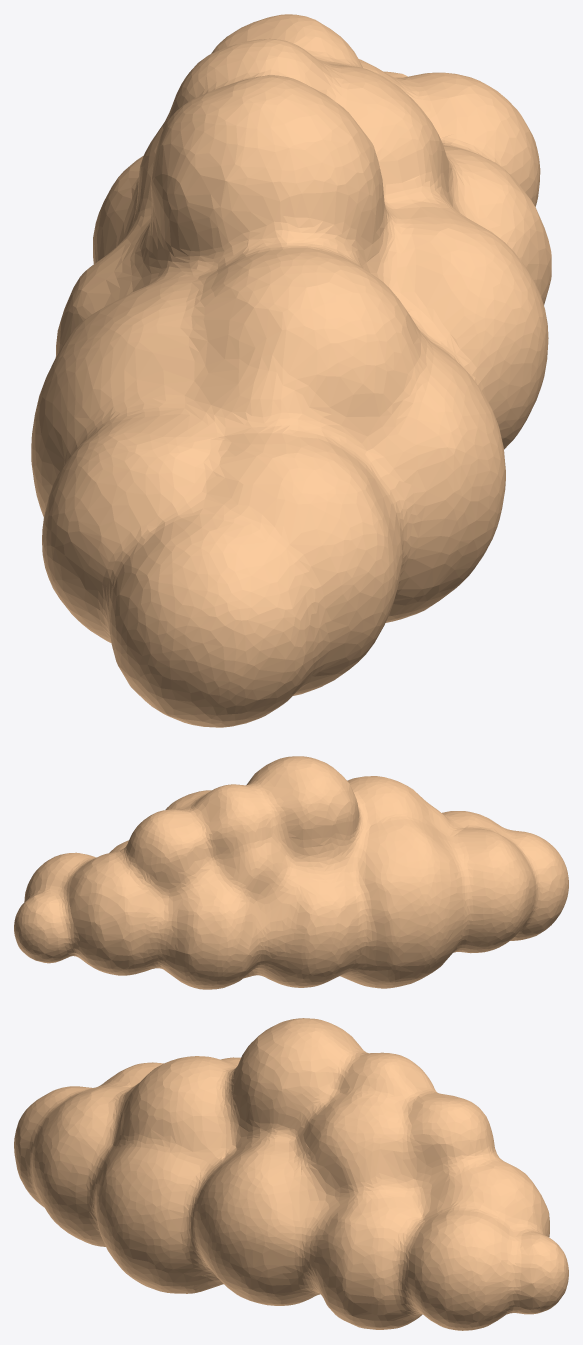
The model's file is clouds.gltf.
The picture shows the model from 3 angles, top to bottom: view 1: azimuth 30°, elevation 25°; view 2: azimuth 150°, elevation 25°; view 3: azimuth 270°, elevation 25°; orthographic projection. The views are drawn at different scales.
Parts seen in each view (by area): view 1: group594805130; view 2: group594805130; view 3: group594805130.
Part boxes in pixels (bbox=[...]): group594805130: bbox=[31, 14, 551, 727]; group594805130: bbox=[14, 756, 568, 989]; group594805130: bbox=[14, 1018, 568, 1330].
Size of the model in its own units: 0.6331 by 0.3737 by 0.7043.
